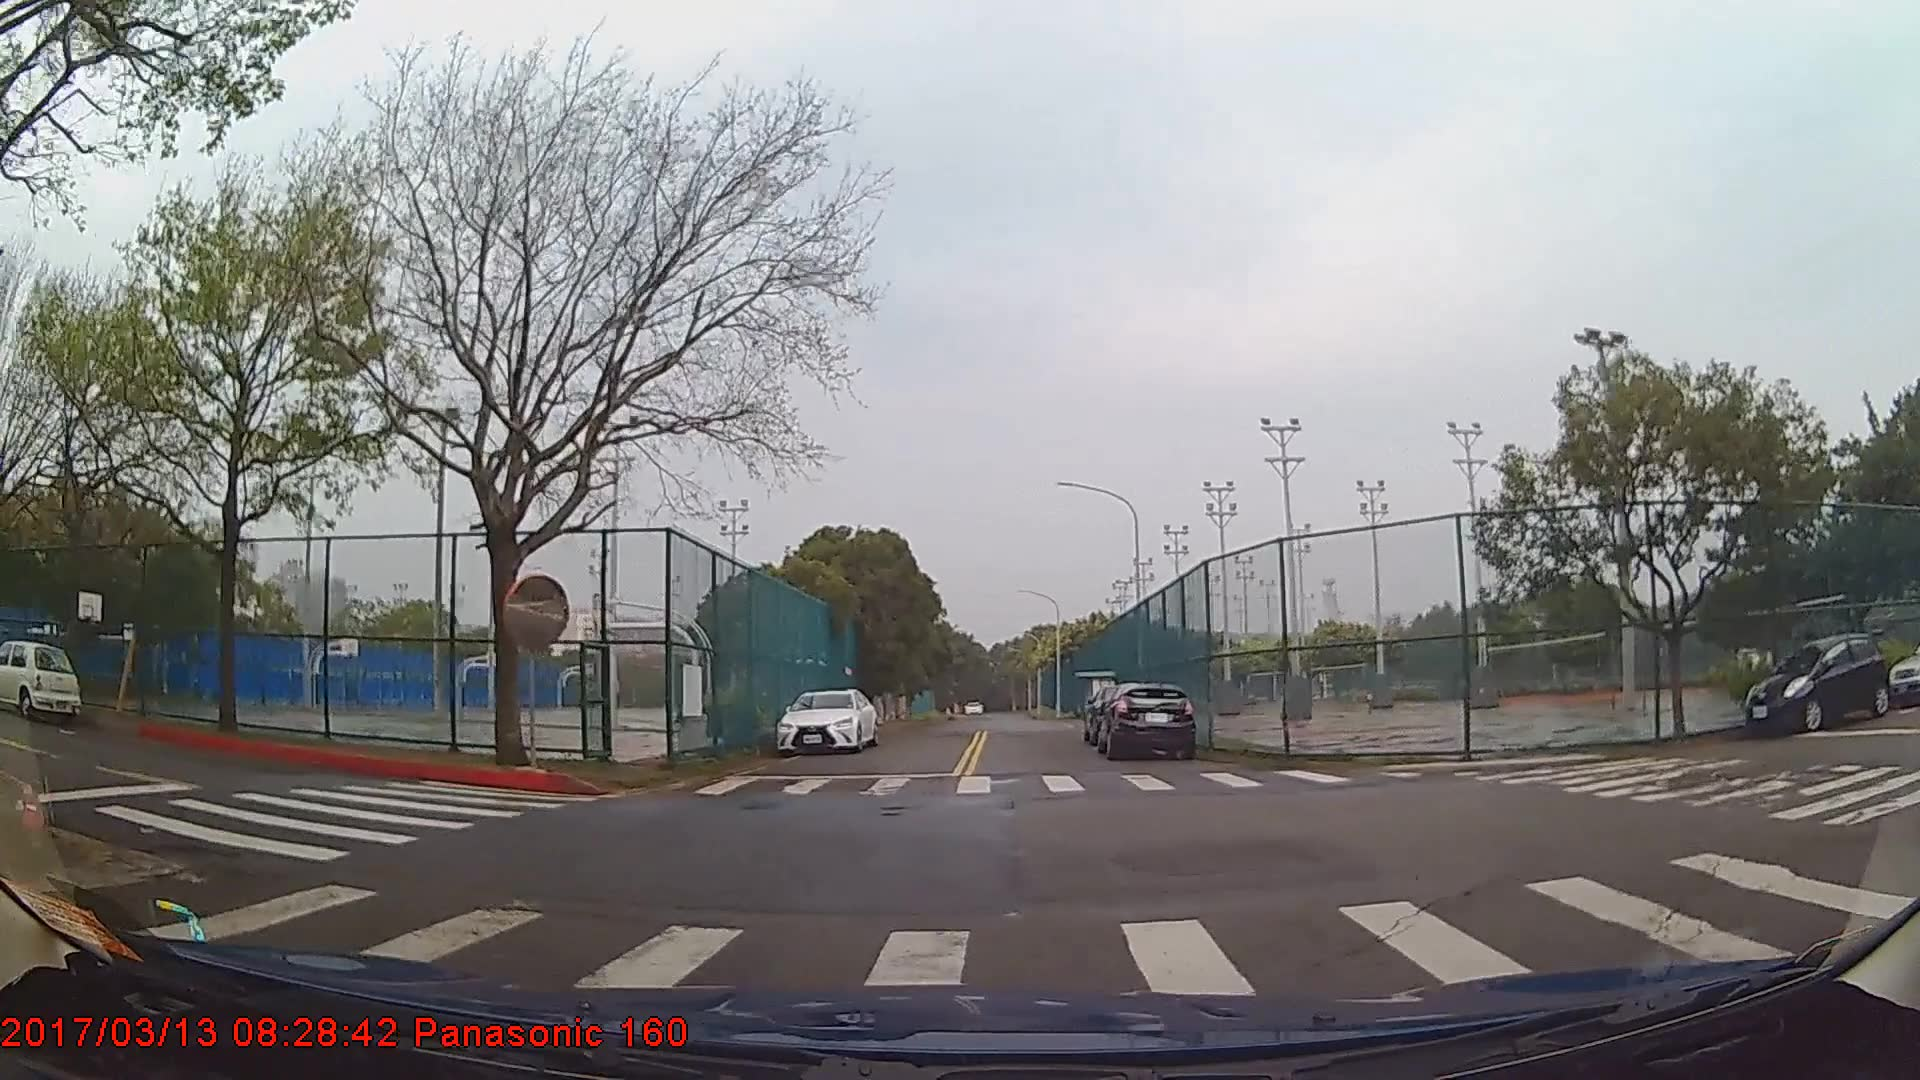vehicle: (1742, 632, 1891, 732), (1098, 680, 1197, 760), (0, 636, 84, 721), (779, 684, 880, 756)
